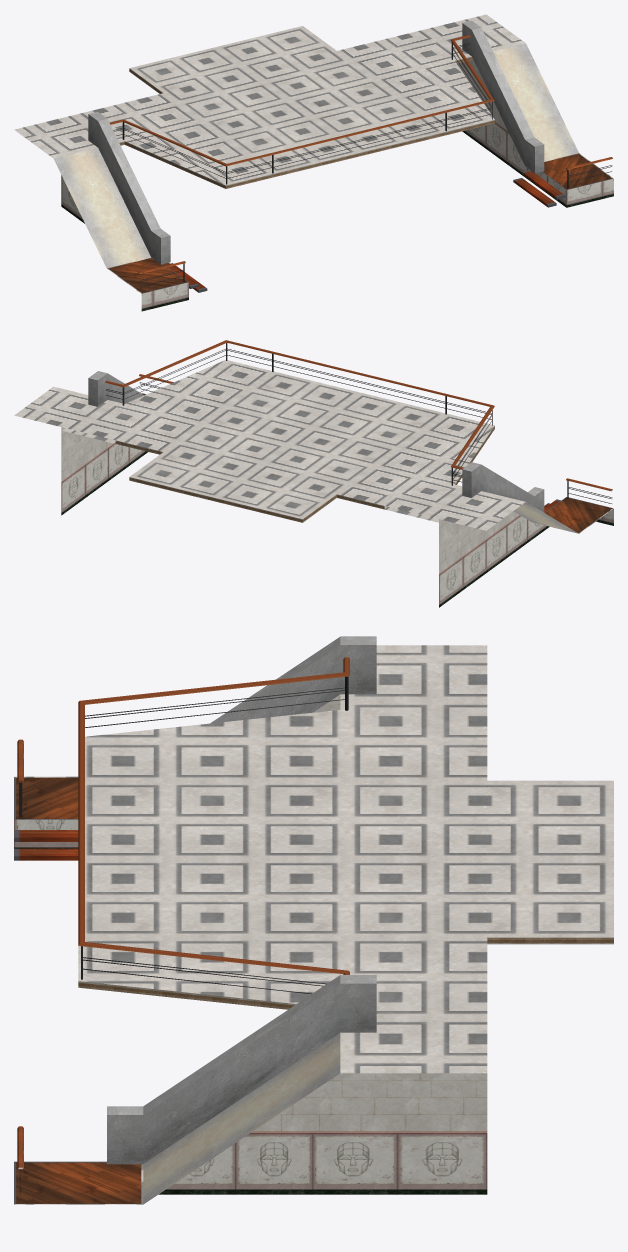
The model's file is Launch_Building_Coon_Stairs.glb.
3 views of the same model, one above another, from view 1: azimuth 30°, elevation 25°; view 2: azimuth 150°, elevation 25°; view 3: azimuth 270°, elevation 25° (orthographic). The views are drawn at different scales.
Visible parts, largest first — view 1: Launch_Building_Coon_Stairs; view 2: Launch_Building_Coon_Stairs; view 3: Launch_Building_Coon_Stairs.
Boxes of the visible parts, x1=… form: Launch_Building_Coon_Stairs: x1=14, y1=14, x2=613, y2=311; Launch_Building_Coon_Stairs: x1=14, y1=340, x2=613, y2=607; Launch_Building_Coon_Stairs: x1=14, y1=636, x2=613, y2=1204.
Bounding box in the file's own units: 23.81 × 5.54 × 14.11.
Materials: 6 (6 with a texture image).
